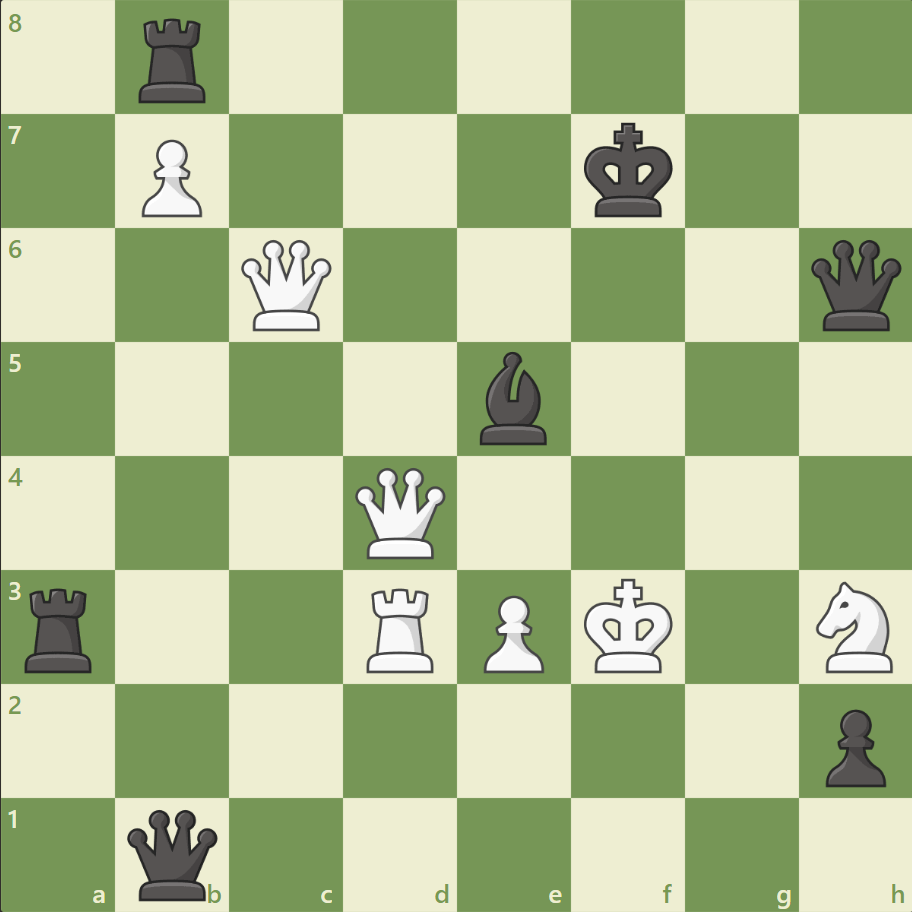K: (579, 571, 679, 679)
N: (806, 575, 903, 677)
P: (133, 132, 208, 223), (474, 586, 549, 677)
Q: (237, 236, 336, 335), (351, 463, 450, 562)
R: (360, 579, 442, 676)
b: (471, 347, 555, 449)
k: (579, 117, 679, 225)
p: (815, 700, 889, 791)
q: (805, 236, 904, 335), (124, 804, 223, 903)
r: (19, 579, 102, 676), (133, 12, 215, 109)
